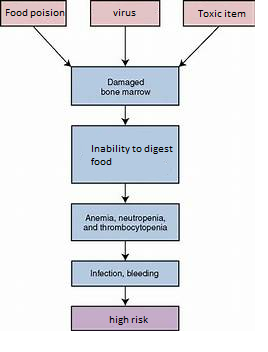arrow: (179, 26, 227, 70), (30, 24, 75, 68), (119, 25, 134, 67), (119, 101, 131, 127), (120, 182, 129, 202), (119, 284, 128, 304), (120, 242, 129, 259)
process: (68, 123, 182, 187), (67, 63, 180, 107), (68, 201, 182, 243), (70, 259, 181, 288), (67, 304, 180, 331), (181, 0, 257, 28), (88, 0, 161, 28), (1, 0, 70, 28)
text: (88, 143, 174, 167), (82, 211, 169, 232), (99, 77, 151, 96), (4, 5, 67, 18), (88, 268, 159, 279), (196, 7, 246, 18), (106, 314, 147, 326), (111, 6, 137, 17)
